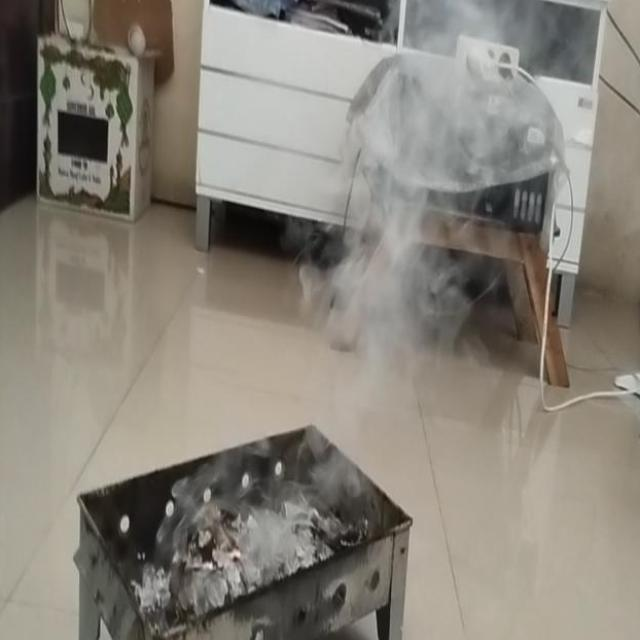fire: (331, 106, 442, 361), (402, 0, 538, 159)
